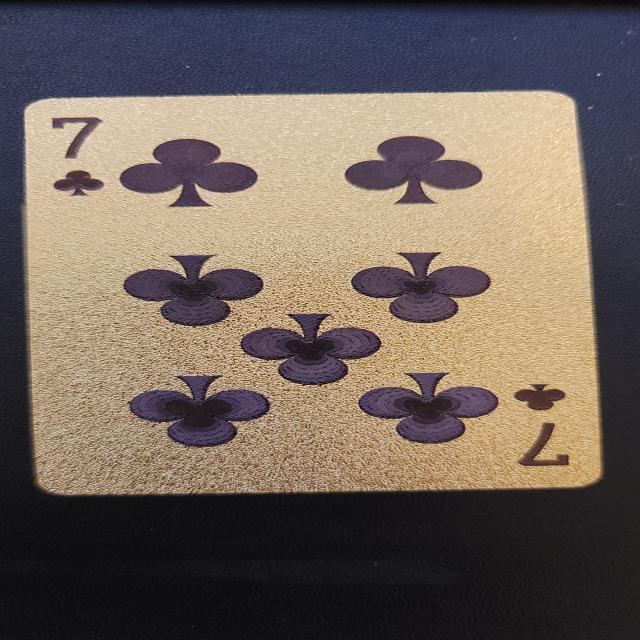7 of clubs: (26, 90, 609, 498)
